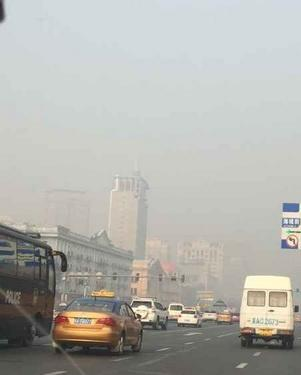bus: (1, 222, 67, 350)
car: (50, 288, 144, 356), (237, 274, 299, 350), (126, 298, 169, 330), (177, 306, 201, 328), (166, 302, 184, 320), (201, 308, 219, 322), (215, 311, 232, 324)
